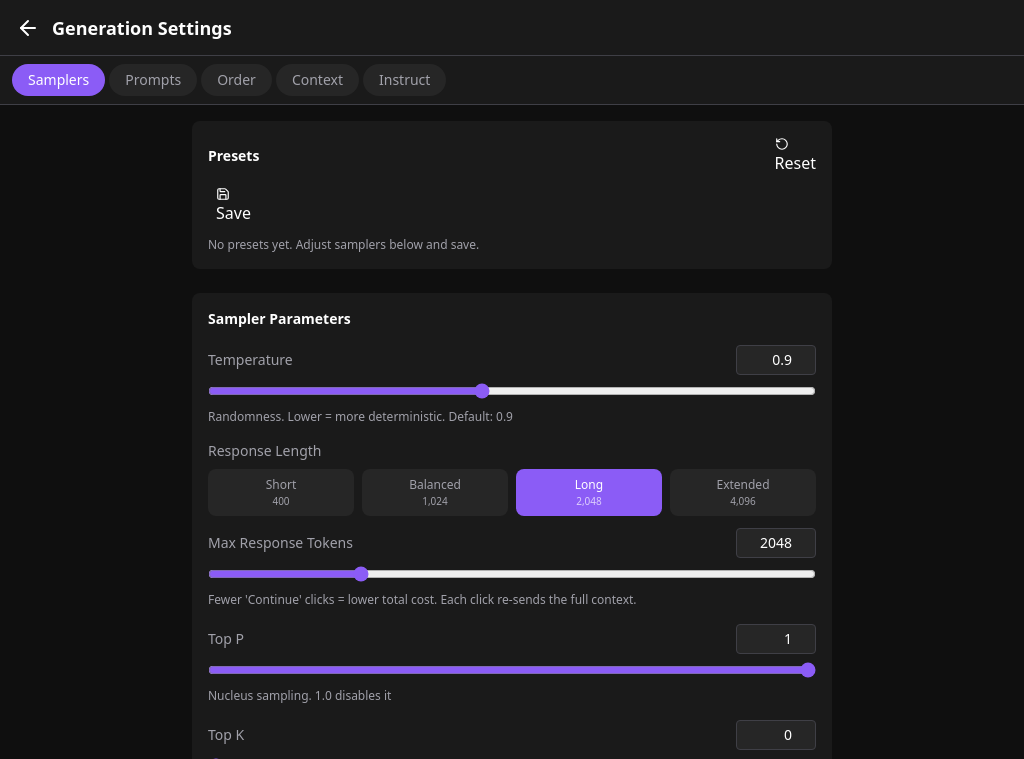
Test: GenerationSettingsPage — the Show-exact-prompt checkbox (R6-C7) › renders checked when the store already has it on
Click the button "Prompts".
click(153, 80)  # box [109,64,197,96]
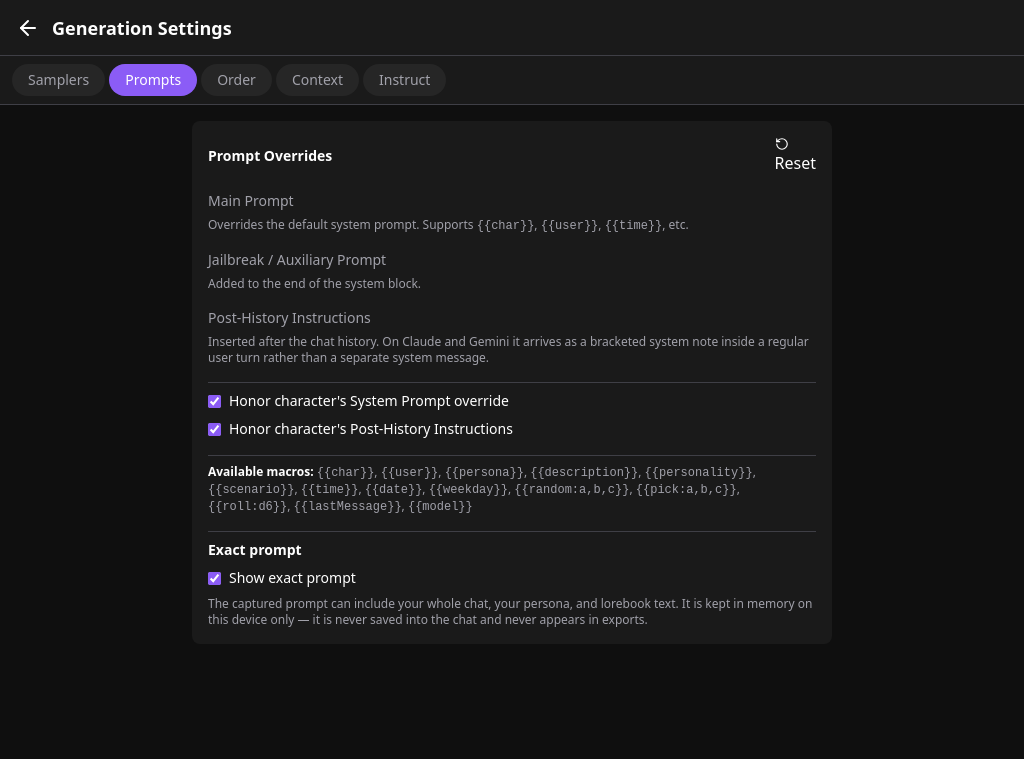
Expected: the checkbox labelled "Show exact prompt" is checked, [208,572,221,584]
